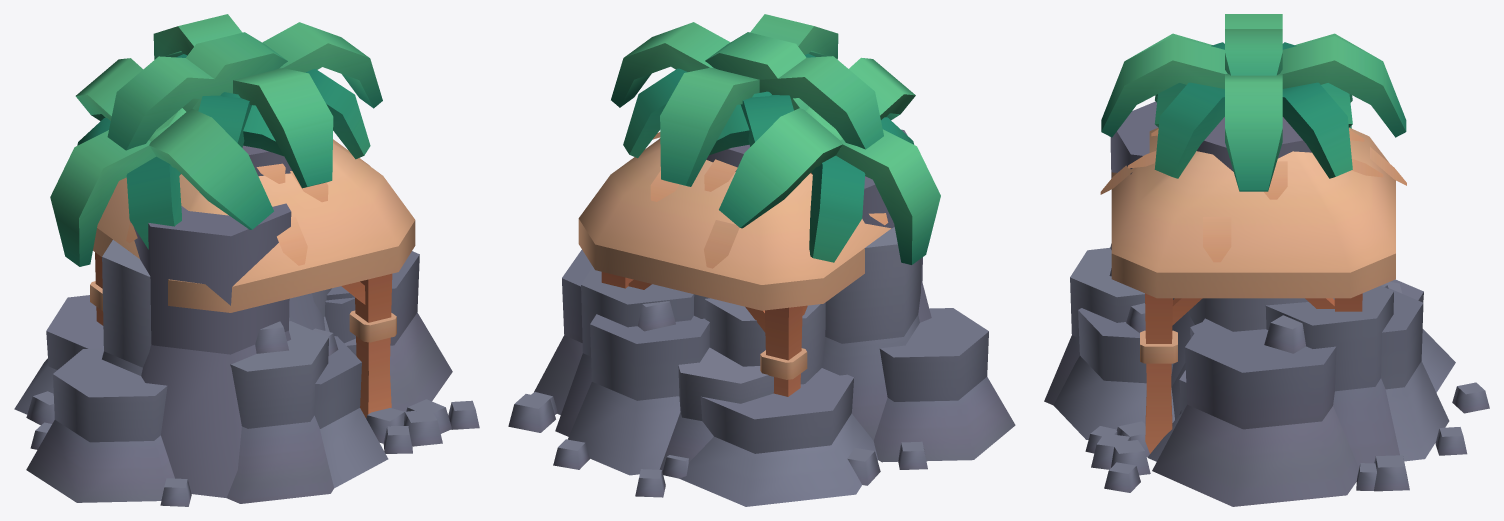
File: kenney-land.glb
3 renders of one model, left to right at view 1: azimuth 30°, elevation 25°; view 2: azimuth 150°, elevation 25°; view 3: azimuth 270°, elevation 25°, orthographic.
Visible parts, largest first — view 1: rocks-a, rocks-b, structure-roof, palm-detailed-bend, palm-detailed-straight, rocks-c; view 2: rocks-b, structure-roof, rocks-a, palm-detailed-bend, palm-detailed-straight, rocks-c; view 3: rocks-a, structure-roof, palm-detailed-straight, rocks-b, rocks-c, palm-detailed-bend.
Part boxes in pixels (x1,y1,x2,y2): rocks-a: (26,203,479,502); rocks-b: (14,145,451,506); structure-roof: (90,139,415,418); palm-detailed-bend: (50,32,287,266); palm-detailed-straight: (107,14,382,188); rocks-c: (325,297,404,443); rocks-b: (508,144,927,506); structure-roof: (578,132,891,396); rocks-a: (534,129,1015,485); palm-detailed-bend: (705,32,940,264); palm-detailed-straight: (611,14,883,186); rocks-c: (531,266,825,478); rocks-a: (1053,101,1467,506); structure-roof: (1100,127,1406,453); palm-detailed-straight: (1101,14,1406,191); rocks-b: (1044,117,1489,491); rocks-c: (1116,285,1399,490); palm-detailed-bend: (1127,29,1379,128).
Bounding box in the file's own units: 5.11 × 4.25 × 4.7.
1 material, 1 textured.
